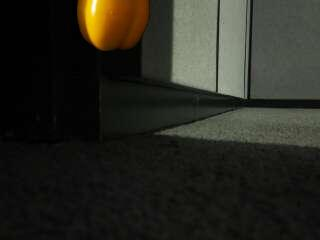Capsicum: (73, 0, 153, 53)
